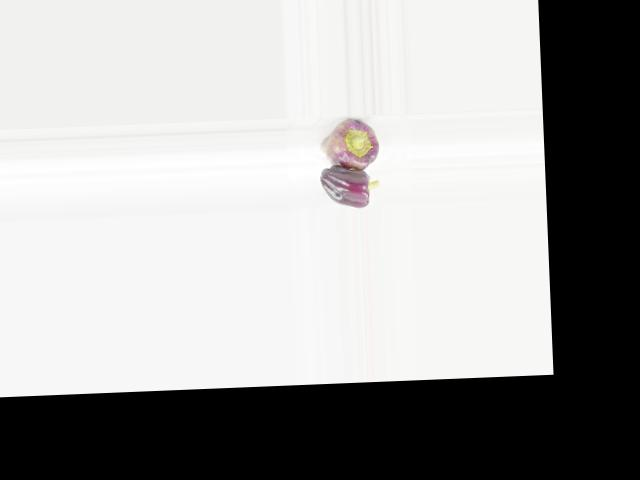bell_pepper: (308, 115, 391, 173)
